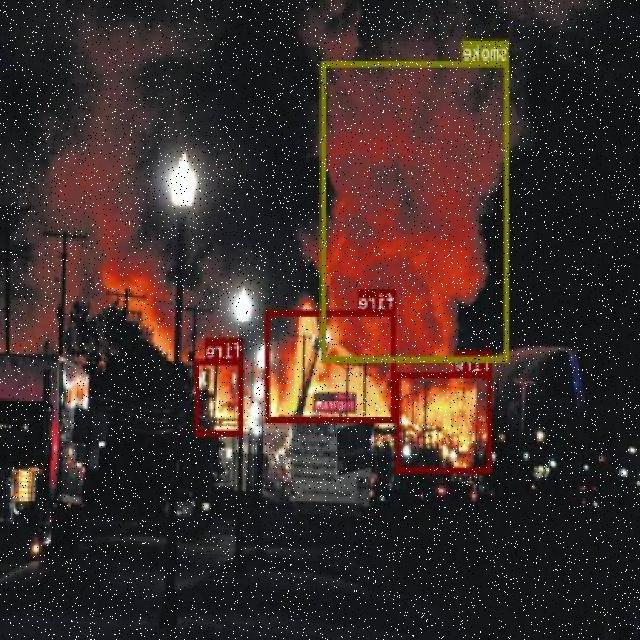smoke: (323, 59, 509, 361)
